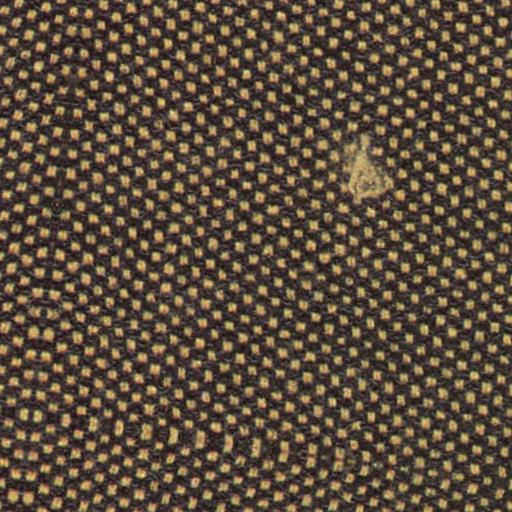knot: (341, 143, 400, 208)
